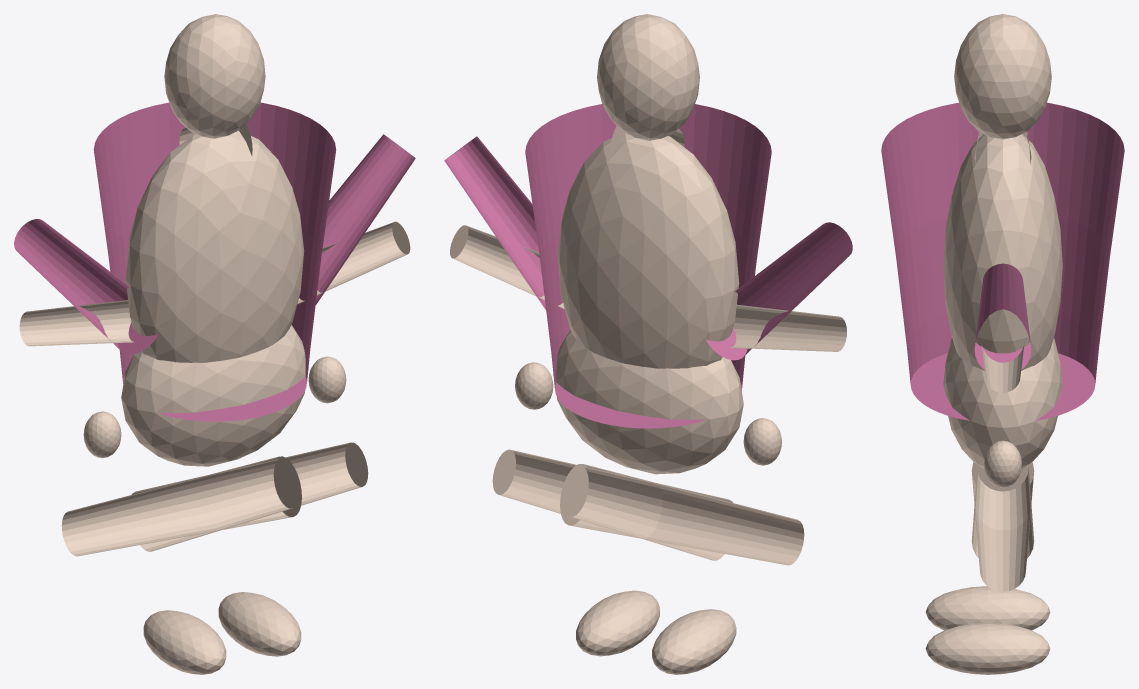
Rendered from femenino-chaqueta.glb.
3 views of the same model, side by side, from view 1: azimuth 30°, elevation 25°; view 2: azimuth 150°, elevation 25°; view 3: azimuth 270°, elevation 25° (orthographic).
Visible parts, largest first — view 1: Avatar0, Prenda, Avatar1, Avatar3, Avatar4, Avatar8, Avatar6, Avatar5, Avatar9, Avatar10, Avatar7, Avatar11; view 2: Avatar0, Prenda, Avatar1, Avatar3, Avatar4, Avatar8, Avatar6, Avatar5, Avatar9, Avatar10, Avatar7, Avatar11; view 3: Prenda, Avatar0, Avatar3, Avatar1, Avatar9, Avatar5, Avatar8, Avatar4, Avatar11, Avatar10.
Part boxes in pixels (<box>): Avatar0: <box>125,130,304,362</box>; Prenda: <box>14,102,415,421</box>; Avatar1: <box>121,325,308,466</box>; Avatar3: <box>164,14,265,138</box>; Avatar4: <box>61,456,301,556</box>; Avatar8: <box>131,442,368,551</box>; Avatar6: <box>19,300,134,346</box>; Avatar5: <box>143,610,226,674</box>; Avatar9: <box>218,592,301,656</box>; Avatar10: <box>297,221,410,304</box>; Avatar7: <box>83,411,121,458</box>; Avatar11: <box>308,356,346,403</box>; Avatar0: <box>557,132,739,368</box>; Prenda: <box>444,104,852,428</box>; Avatar1: <box>553,330,743,474</box>; Avatar3: <box>597,14,699,140</box>; Avatar4: <box>560,464,804,565</box>; Avatar8: <box>492,449,732,560</box>; Avatar6: <box>730,304,846,351</box>; Avatar5: <box>652,609,736,674</box>; Avatar9: <box>576,590,659,656</box>; Avatar10: <box>450,225,564,308</box>; Avatar7: <box>743,418,781,465</box>; Avatar11: <box>515,362,553,409</box>; Prenda: <box>881,102,1124,420</box>; Avatar0: <box>943,134,1062,370</box>; Avatar3: <box>954,14,1051,139</box>; Avatar1: <box>943,338,1062,468</box>; Avatar9: <box>925,623,1050,674</box>; Avatar5: <box>925,586,1050,630</box>; Avatar8: <box>971,462,1034,591</box>; Avatar4: <box>971,469,1034,558</box>; Avatar11: <box>984,440,1021,487</box>; Avatar10: <box>981,343,1024,392</box>.
Bounding box in the file's own units: 1.69 × 2.58 × 0.8964.
